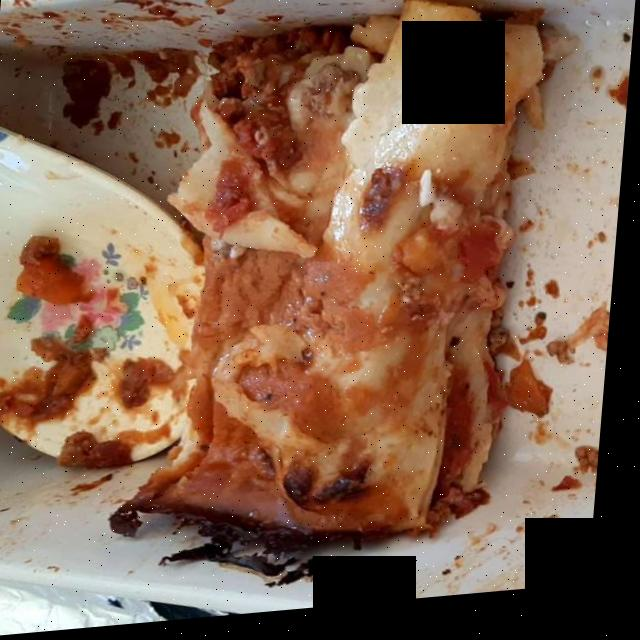lasagne-meat-prepared: (170, 14, 555, 552)
